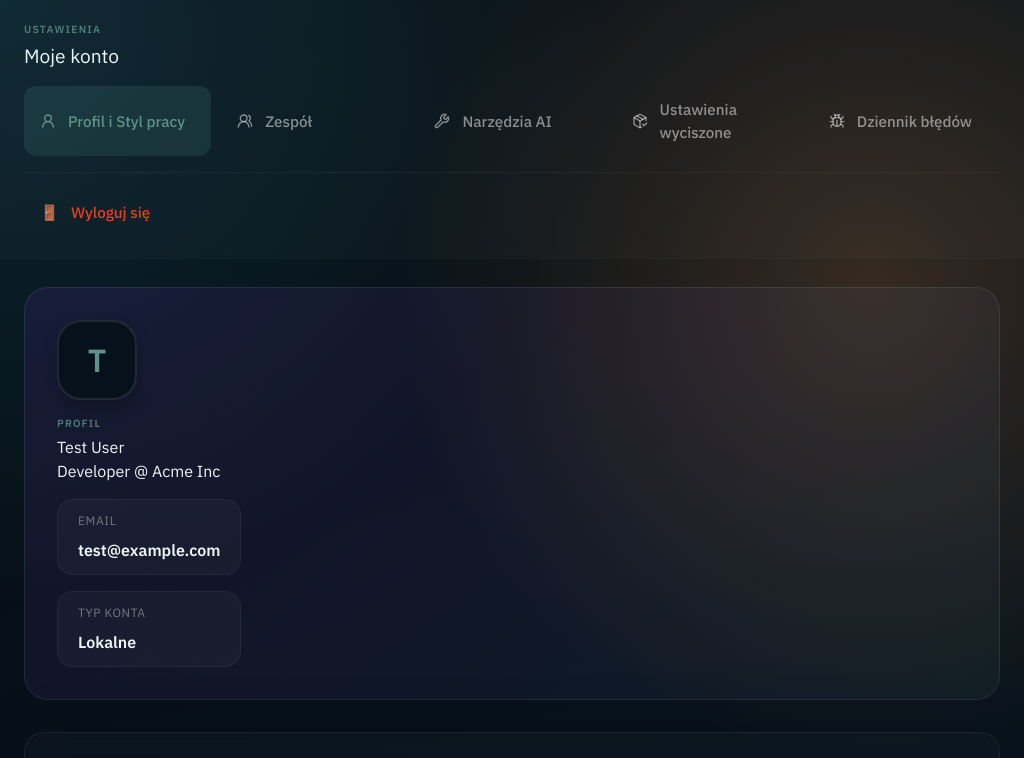
Test case: ProfileTab › Voice Profiles Section › allows entering speaker name and starting recording
Note: Navigate to Narzędzia AI
Click the button "Narzędzia AI".
click(512, 121)  # box [418, 86, 606, 156]
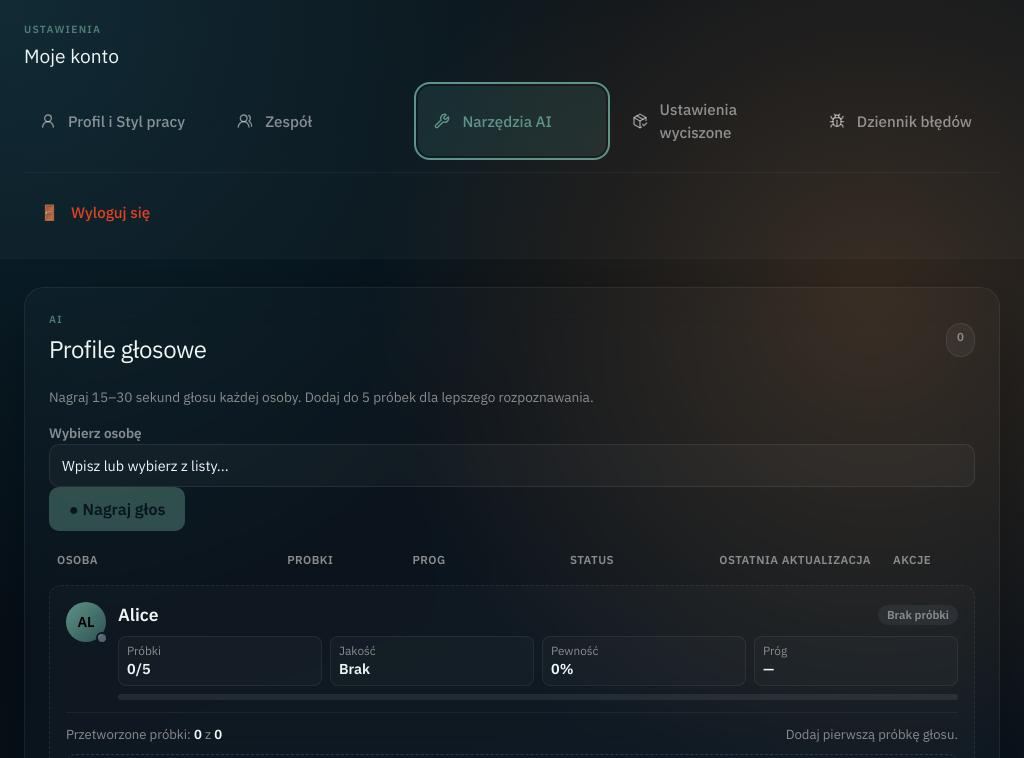
Check: the heading "Profile głosowe" is shown, box [49, 331, 206, 367]
Check: the field with placeholder "Wpisz lub wybierz z listy..." is shown, box [58, 451, 235, 480]
Check: the button "● Nagraj głos" is disabled, box [49, 487, 185, 531]
